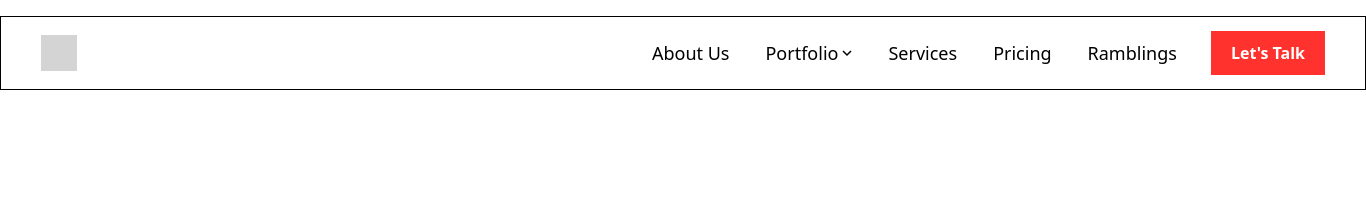
clicking Portfolio shows Case Studies and Concepts
Click the button "Portfolio".
click(809, 53)  # box [756,29,862,77]
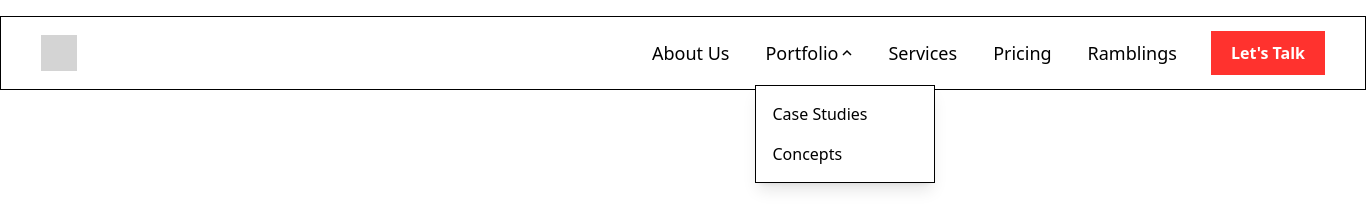
Check: the button "Portfolio" is expanded, box [756,29,862,77]
